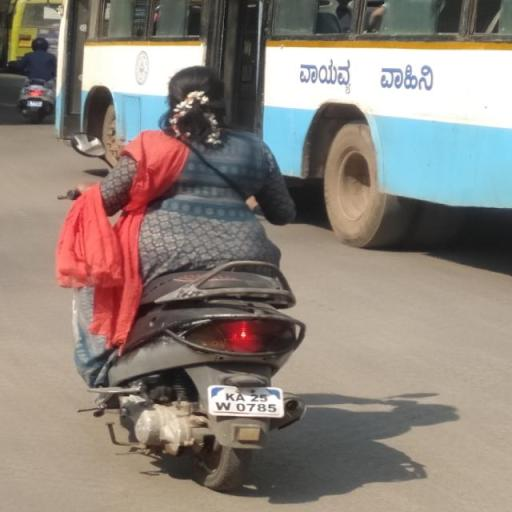bike: (30, 60, 324, 496)
numberplate: (210, 384, 288, 418)
withouthelmet: (169, 68, 228, 122)
